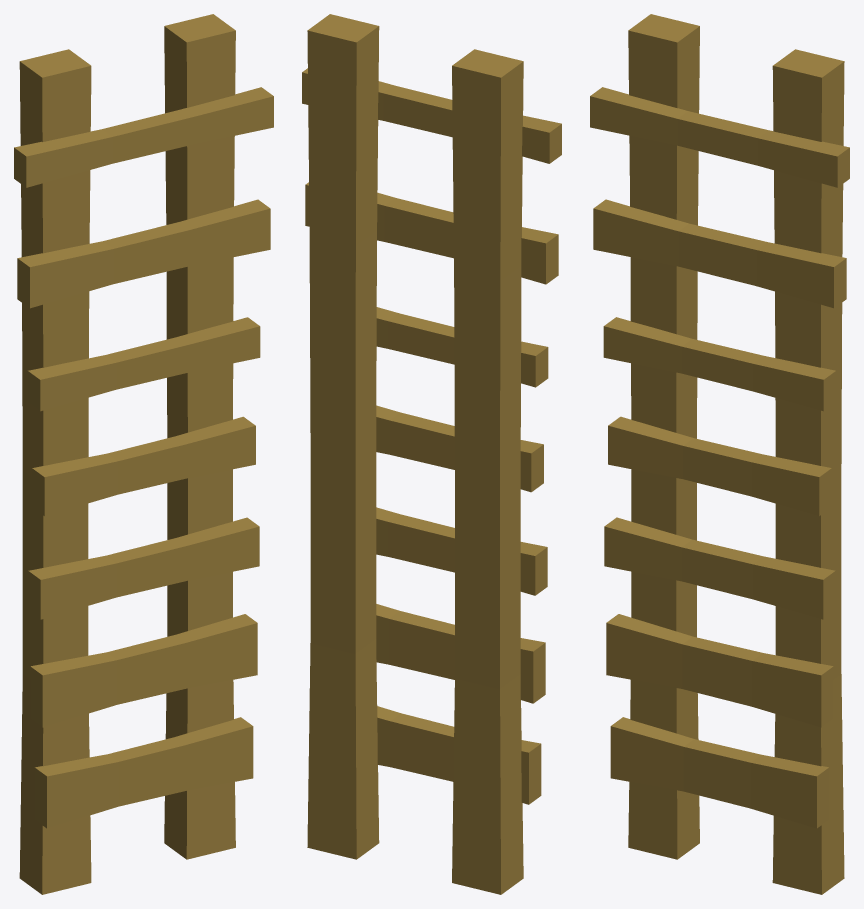
The model's file is ladder.fbx.
3 views of the same model, side by side, from view 1: azimuth 30°, elevation 25°; view 2: azimuth 150°, elevation 25°; view 3: azimuth 330°, elevation 25° (orthographic).
Visible parts, largest first — view 1: Ladder; view 2: Ladder; view 3: Ladder.
Part boxes in pixels (bbox=[...]): Ladder: bbox=[14, 14, 273, 894]; Ladder: bbox=[302, 14, 561, 894]; Ladder: bbox=[590, 14, 849, 894].
Bounding box in the file's own units: 24.59 × 77.62 × 5.81.
1 material, 1 textured.
